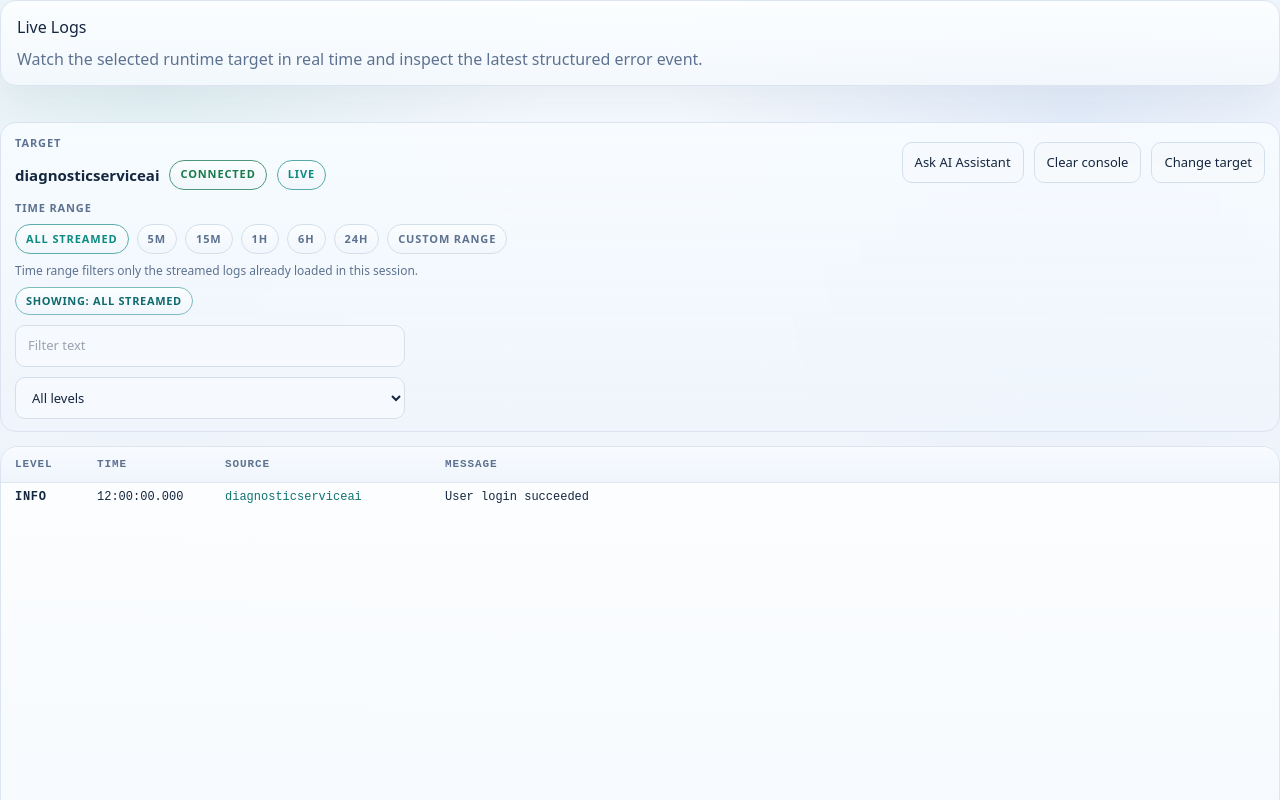
Test case: LiveLogsPage › opens the AI assistant diagnosis panel and disables submit without a question
Click the button "Ask AI Assistant": (963, 162) top-left (902, 142), bottom-right (1024, 183)
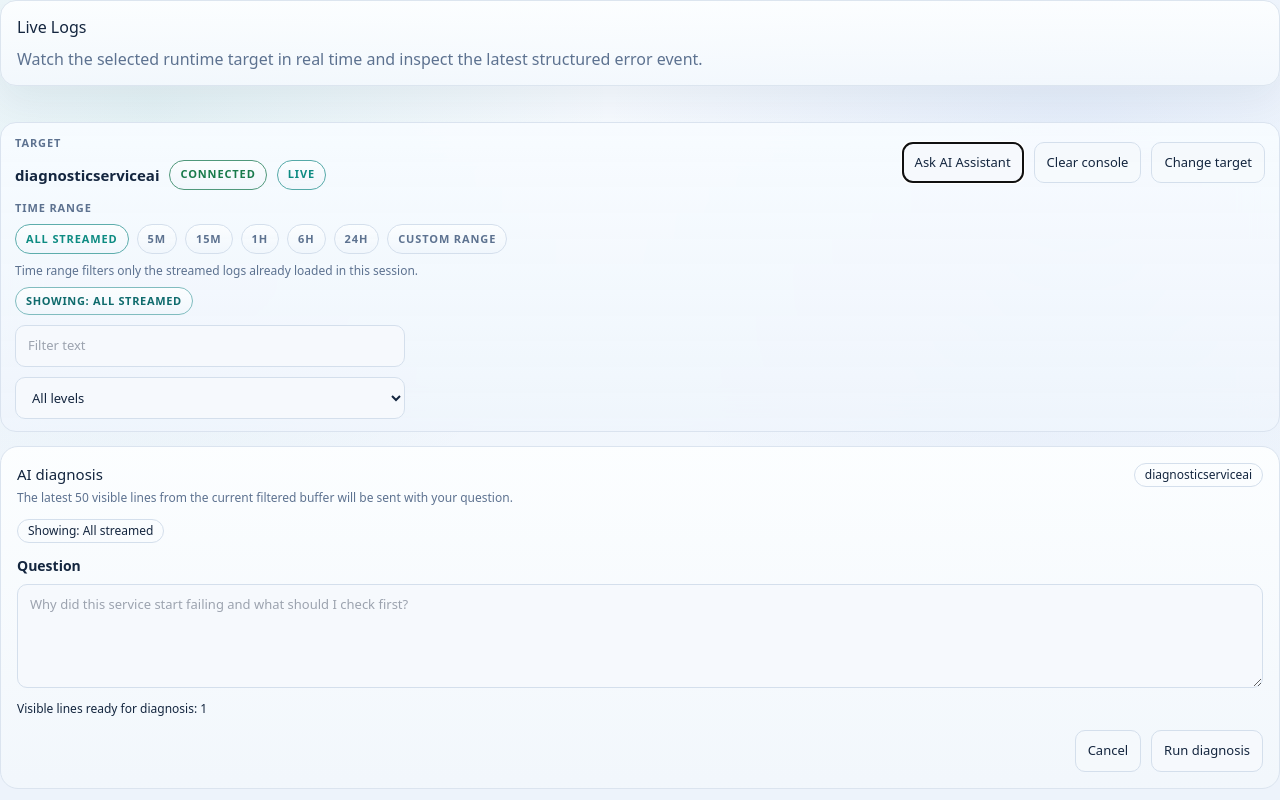
Check: the heading "AI diagnosis" is shown, box top-left (17, 464), bottom-right (103, 484)
Check: the button "Run diagnosis" is disabled, box top-left (1151, 730), bottom-right (1263, 772)
